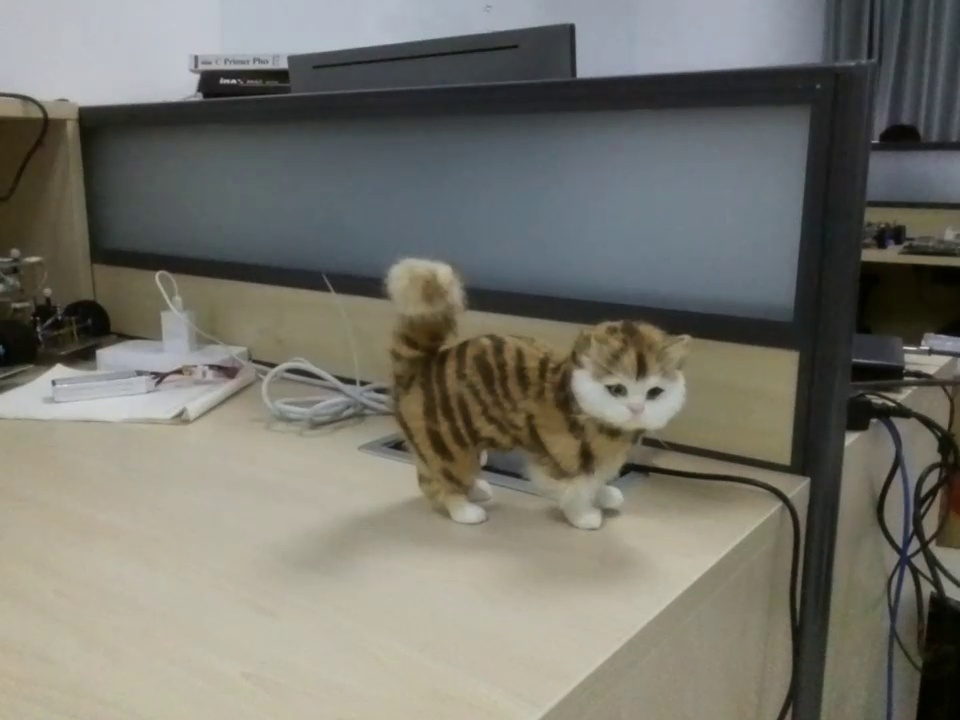cat: (369, 229, 690, 549)
